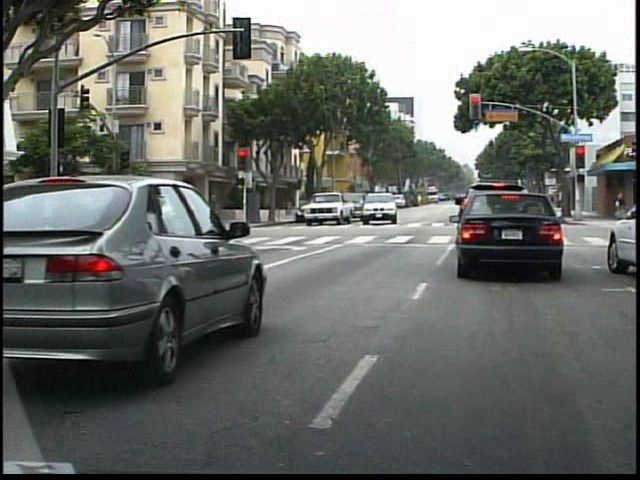person: (127, 191, 145, 235), (147, 193, 164, 233)
